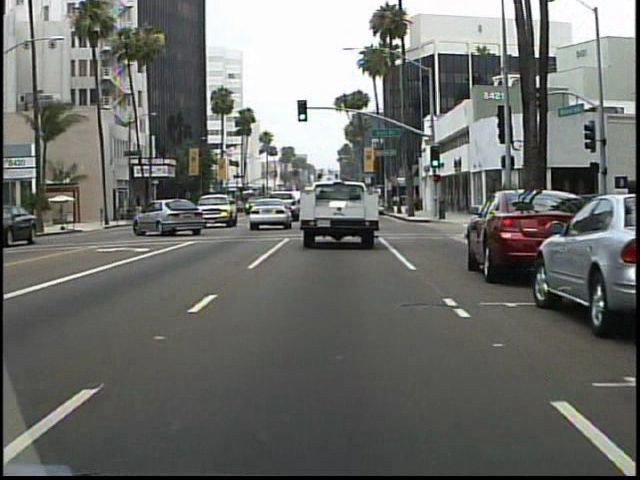person: (439, 187, 449, 220)
